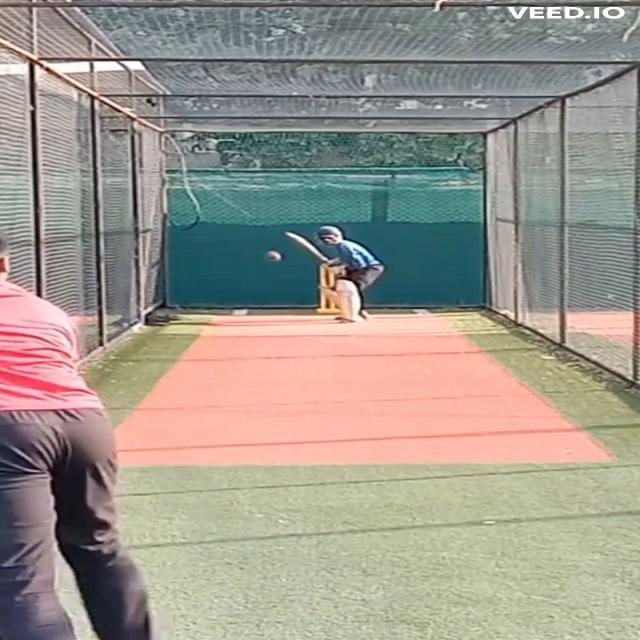ball: (265, 251, 282, 262)
stump: (316, 265, 338, 315)
